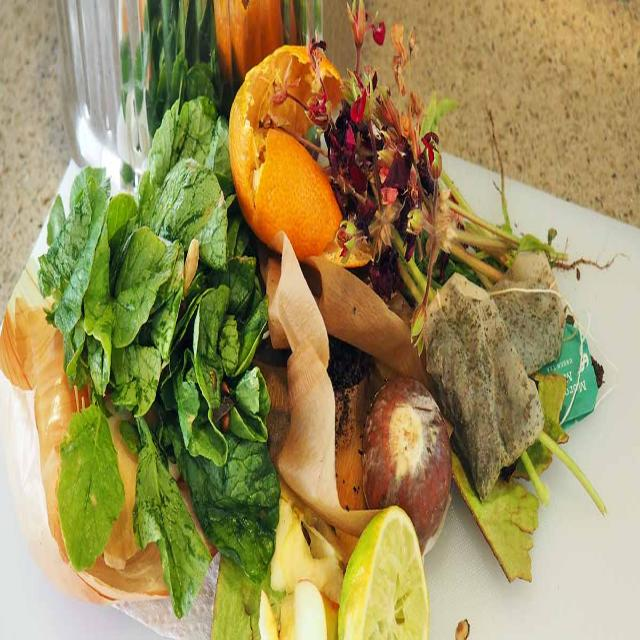wet: (39, 93, 279, 618), (384, 130, 612, 532), (388, 224, 532, 366), (121, 0, 226, 189), (281, 0, 328, 160), (119, 1, 152, 179), (443, 183, 523, 252), (159, 0, 178, 113), (284, 1, 323, 54)
